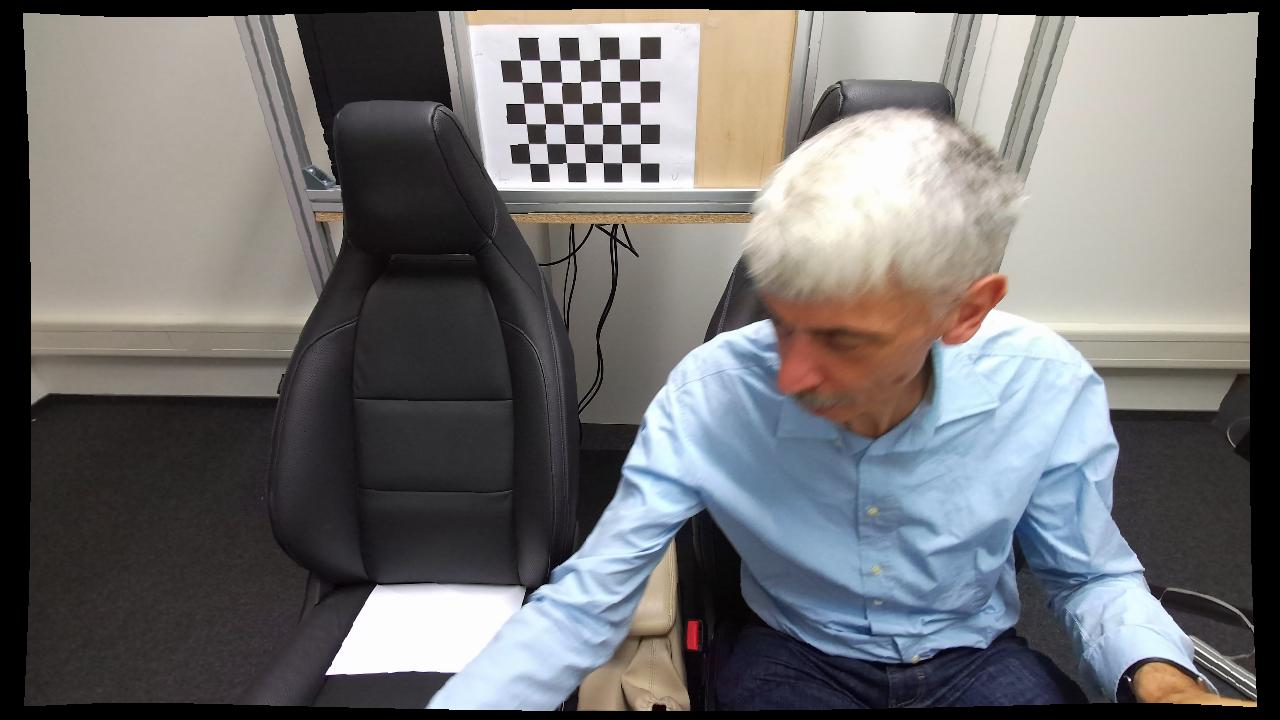Distracted: (423, 102, 1122, 712)
